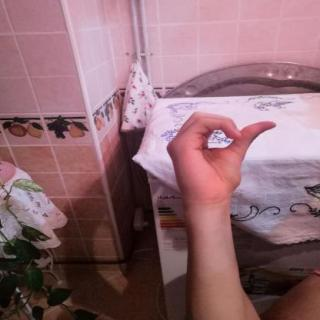WAW: (160, 104, 286, 214)
